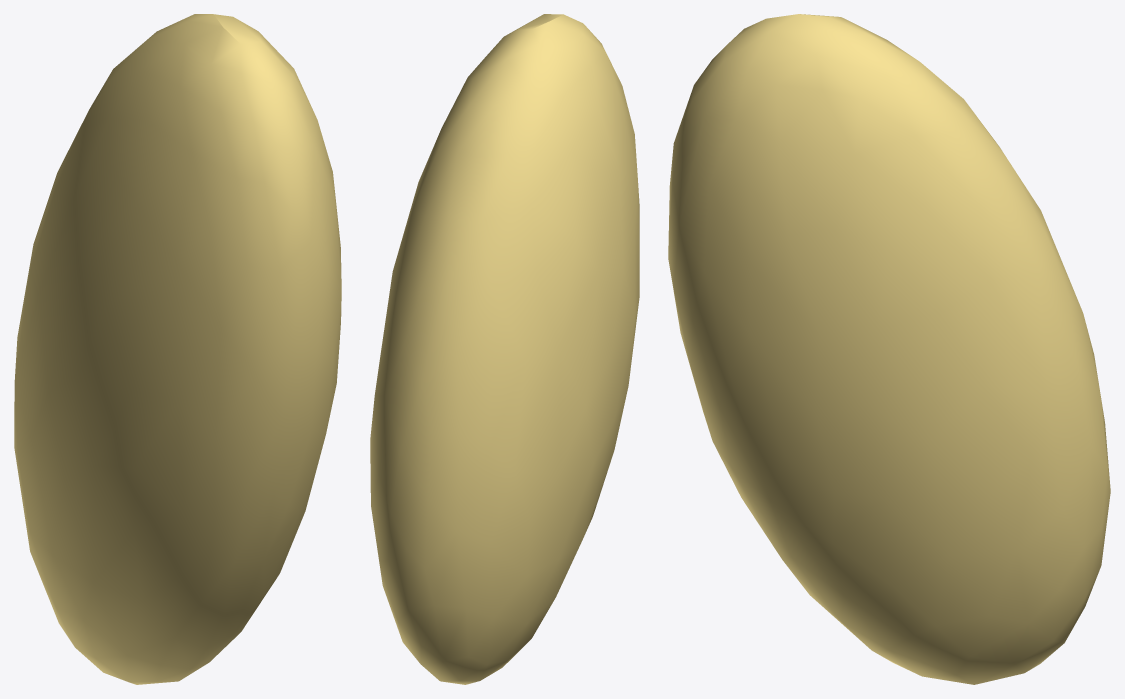
File: fma72584_mm2698.glb
3 views of the same model, side by side, from view 1: azimuth 30°, elevation 25°; view 2: azimuth 150°, elevation 25°; view 3: azimuth 270°, elevation 25° (orthographic). The views are drawn at different scales.
Visible parts, largest first — view 1: FMA72584_MM2698; view 2: FMA72584_MM2698; view 3: FMA72584_MM2698.
Part boxes in pixels (x1=…): FMA72584_MM2698: x1=14, y1=14, x2=341, y2=684; FMA72584_MM2698: x1=370, y1=14, x2=639, y2=684; FMA72584_MM2698: x1=668, y1=14, x2=1110, y2=684.
Bounding box in the file's own units: 0.002 × 0.00605 × 0.00363.
